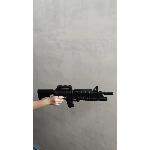Senapan: (36, 82, 117, 112)
